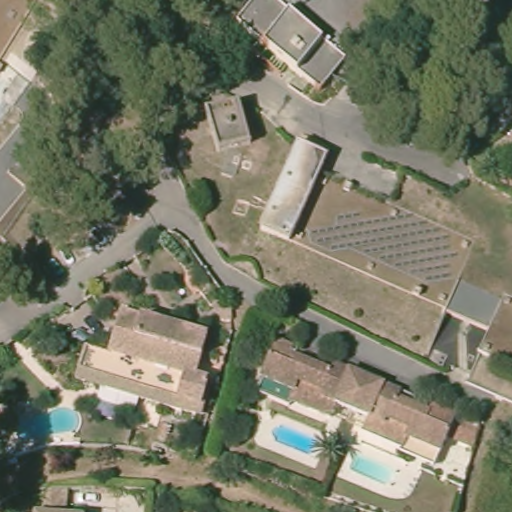pool: (8, 398, 86, 447), (262, 417, 327, 464), (344, 447, 406, 493)
